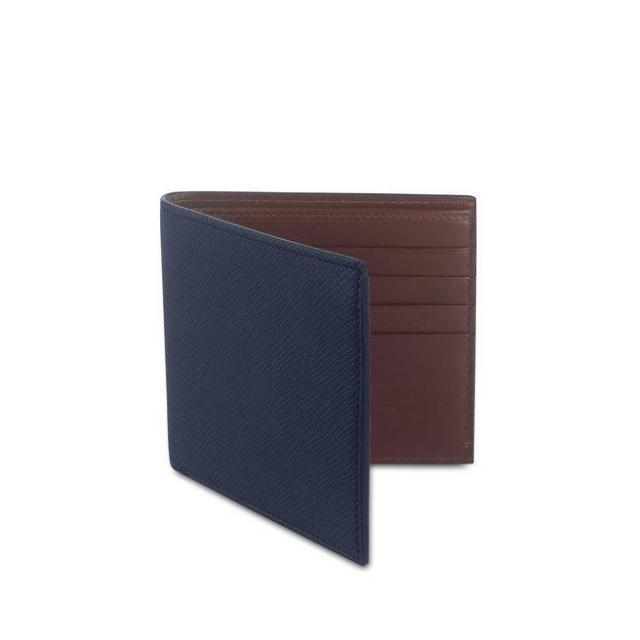wallet: (158, 183, 476, 574)
